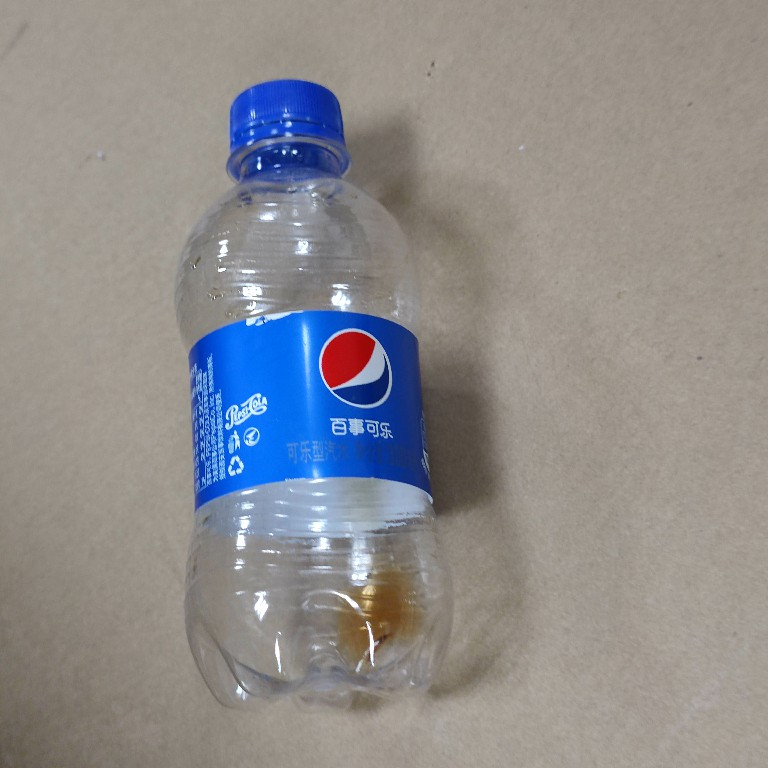bottle: (168, 77, 457, 722)
